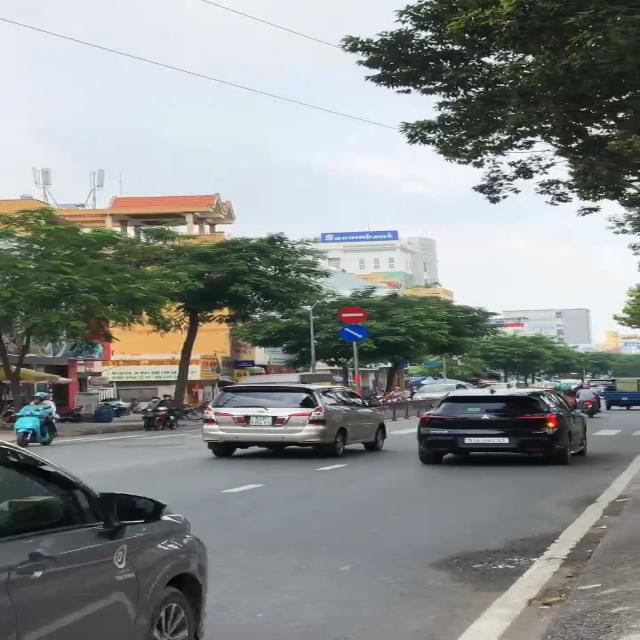Bien bao cam di nguoc chieu: (335, 305, 370, 324)
Bien bao huong phai di vong chuong ngai vat: (336, 323, 372, 345)
